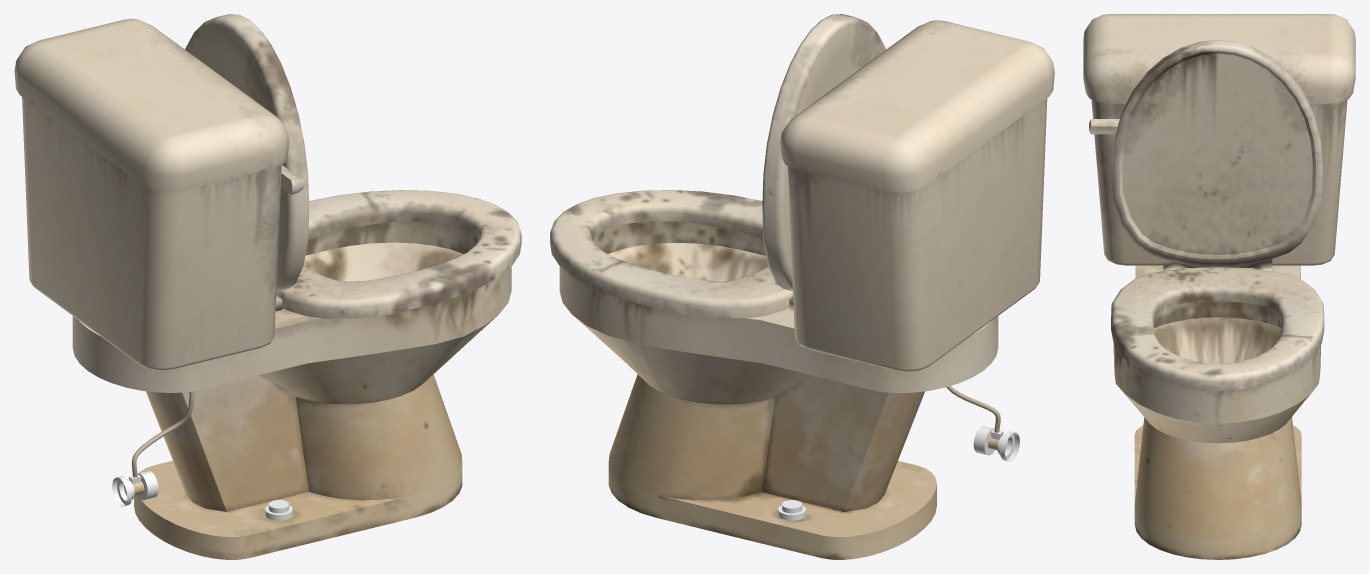
The picture shows the model from 3 angles, left to right: view 1: azimuth 30°, elevation 25°; view 2: azimuth 150°, elevation 25°; view 3: azimuth 270°, elevation 25°; orthographic projection. The views are drawn at different scales.
Parts seen in each view (by area): view 1: tOILET BOWL.001, Box.002, Circle.007, Circle.008, Circle.011; view 2: tOILET BOWL.001, Box.002, Circle.007, Circle.008, Circle.011; view 3: Circle.008, tOILET BOWL.001, Box.002, Circle.007, Circle.001.
Part boxes in pixels (left/top/right/bottom): tOILET BOWL.001: left=72, top=221, right=511, bottom=559; Box.002: left=14, top=18, right=289, bottom=370; Circle.007: left=276, top=190, right=521, bottom=318; Circle.008: left=185, top=14, right=309, bottom=311; Circle.011: left=112, top=471, right=158, bottom=506; tOILET BOWL.001: left=559, top=221, right=998, bottom=559; Box.002: left=780, top=20, right=1054, bottom=371; Circle.007: left=550, top=190, right=793, bottom=318; Circle.008: left=762, top=14, right=886, bottom=310; Circle.011: left=973, top=426, right=1019, bottom=461; Circle.008: left=1112, top=40, right=1322, bottom=270; tOILET BOWL.001: left=1113, top=265, right=1320, bottom=559; Box.002: left=1083, top=14, right=1355, bottom=265; Circle.007: left=1111, top=267, right=1324, bottom=391; Circle.001: left=1089, top=119, right=1119, bottom=134.
Size of the model in its own units: 0.9851 by 1.08 by 0.6229.
Materials: 3 (3 with a texture image).
